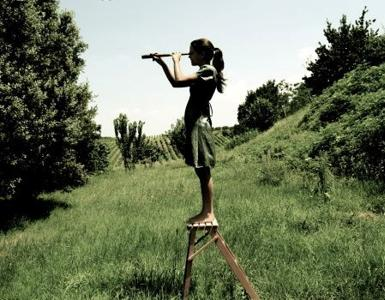person: (151, 39, 225, 225)
